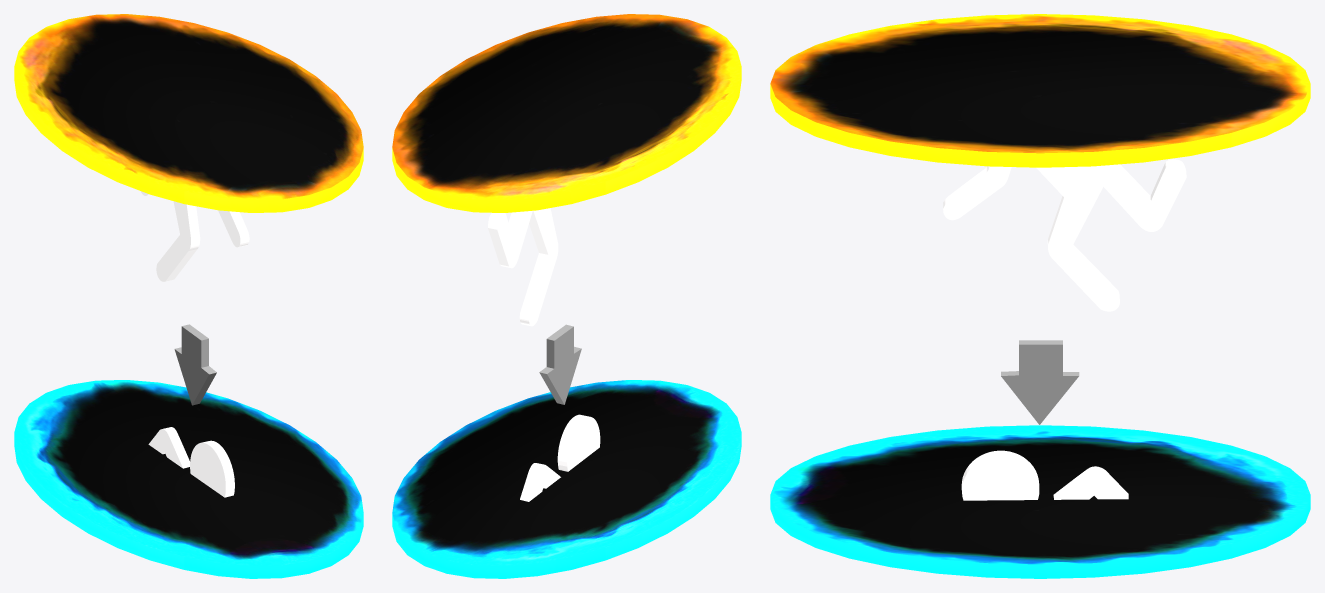
The picture shows the model from 3 angles, left to right: view 1: azimuth 30°, elevation 25°; view 2: azimuth 150°, elevation 25°; view 3: azimuth 270°, elevation 25°; orthographic projection. The views are drawn at different scales.
Visible parts, largest first — view 1: Cylinder.001, Cylinder, guy2, Curve, Curve.001; view 2: Cylinder.001, Cylinder, Curve, guy2, Curve.001; view 3: Cylinder.001, Cylinder, Curve, guy2, Curve.001.
Part boxes in pixels (<box>): Cylinder.001: <box>14,14,363,212</box>; Cylinder: <box>14,380,363,578</box>; guy2: <box>148,427,234,497</box>; Curve: <box>140,191,249,281</box>; Curve.001: <box>174,324,216,405</box>; Cylinder.001: <box>392,14,741,212</box>; Cylinder: <box>392,380,741,578</box>; Curve: <box>488,208,558,326</box>; guy2: <box>520,414,600,501</box>; Curve.001: <box>539,324,581,404</box>; Cylinder.001: <box>770,14,1310,167</box>; Cylinder: <box>770,425,1310,578</box>; Curve: <box>943,159,1186,311</box>; guy2: <box>961,450,1128,500</box>; Curve.001: <box>1001,340,1079,424</box>.
Bounding box in the file's own units: 1.22 × 1.74 × 2.
4 materials, 2 textured.
